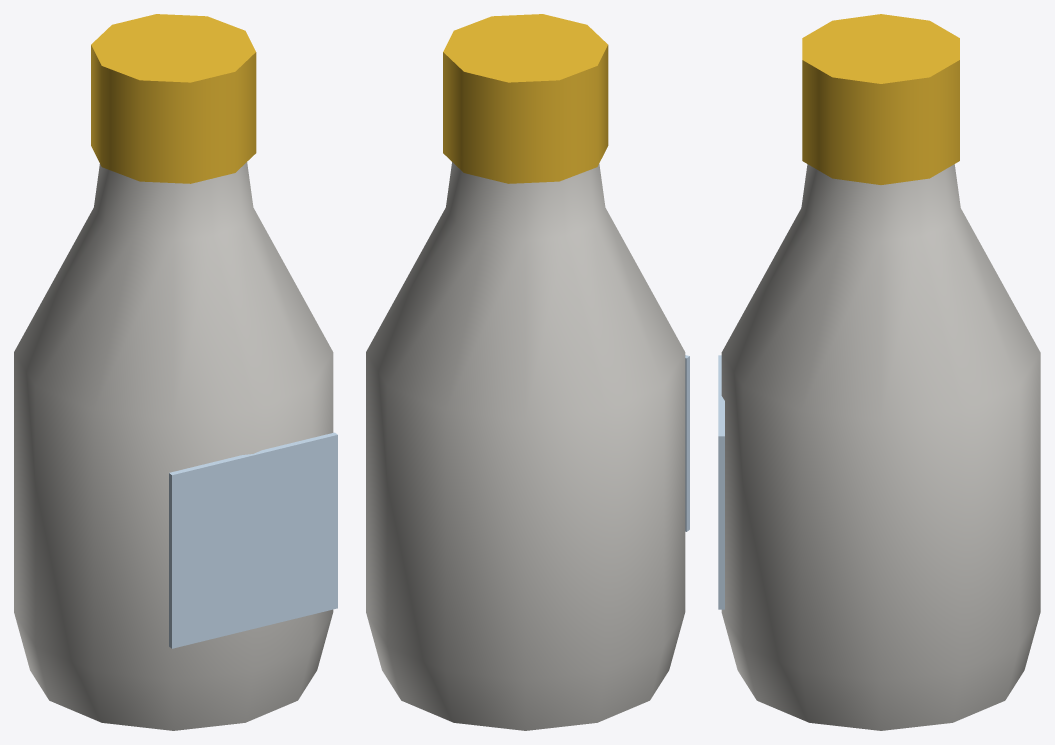
File: milk_bottle.glb
3 views of the same model, side by side, from view 1: azimuth 30°, elevation 25°; view 2: azimuth 150°, elevation 25°; view 3: azimuth 270°, elevation 25° (orthographic).
Visible parts, largest first — view 1: root; view 2: root; view 3: root.
Part boxes in pixels (box(x1,y1,x2,y2)): root: box(14, 14, 337, 730); root: box(366, 14, 689, 730); root: box(718, 14, 1040, 730).
Bounding box in the file's own units: 0.2 × 0.43 × 0.202.
